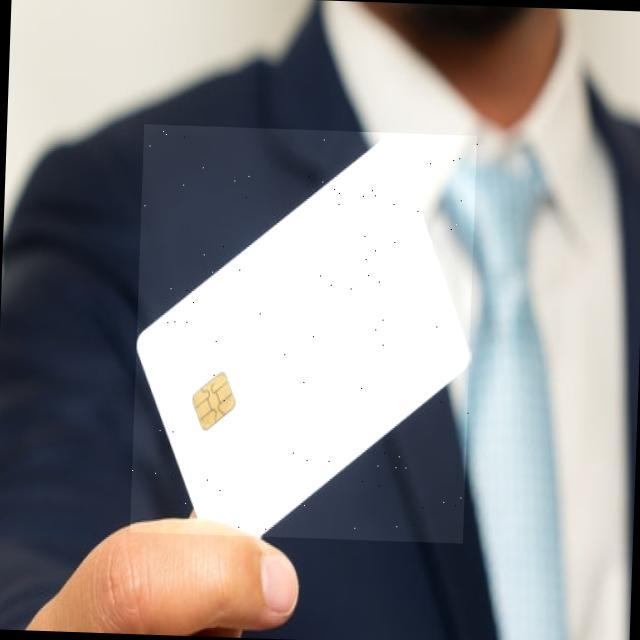payment_card: (134, 126, 478, 541)
